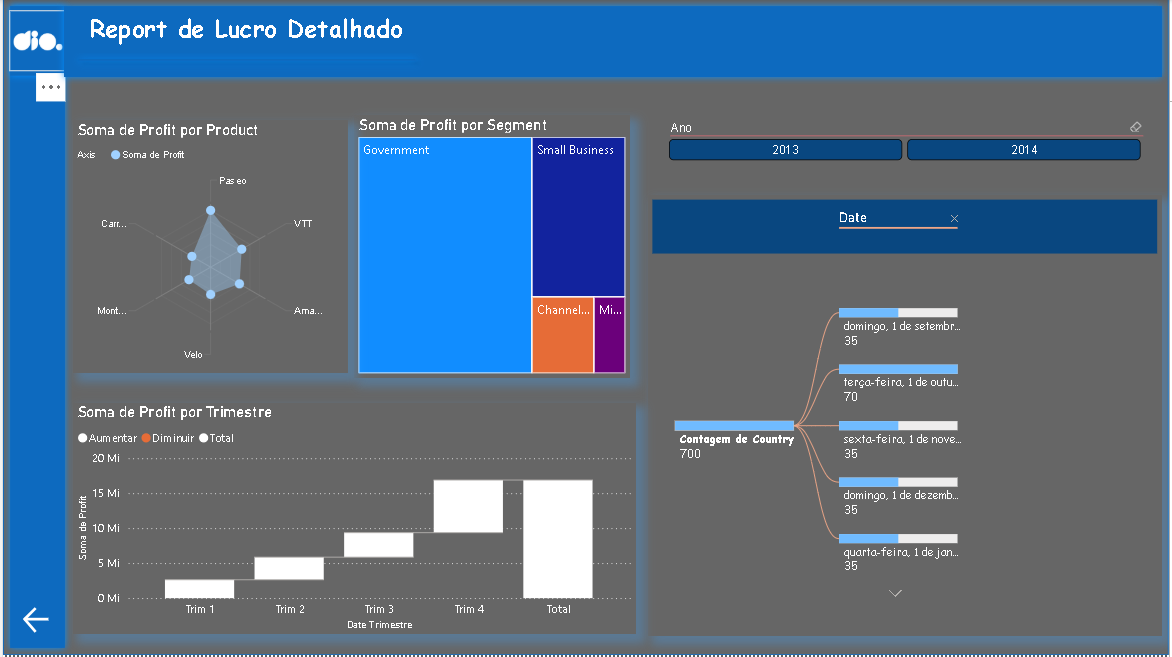

What the dashboard file says about the page in this screenshot:
{"tool":"powerbi","page":{"name":"Profit","canvas":[1280,720],"ordinal":1},"visuals":[{"type":"shape","box":[0,0,1279.7,720.1],"z":0},{"type":"shape","box":[0,0,75.8,720.1],"z":1000},{"type":"shape","box":[0,0,75.8,92],"z":2000},{"type":"image","title":"logo dio","box":[7.2,12.6,63.2,66.8],"z":3000},{"type":"shape","box":[59,0,1221.1,93.6],"z":4000},{"type":"actionButton","box":[18,662.4,39.7,37.9],"z":5000},{"type":"textbox","box":[90.8,8.9,411.1,51.6],"z":6000},{"type":"shape","box":[74.8,53.4,388,26.7],"z":7000},{"type":"decompositionTreeVisual","fields":{"ExplainBy":["financials.Date"],"Analyze":["CountNonNull(financials.Country)"]},"box":[708.4,215.4,564.2,484.1],"z":8000},{"type":"treemap","fields":{"Values":["Sum(financials.Profit)"],"Group":["financials.Segment"]},"box":[386.2,128.1,302.6,288.3],"z":9000},{"type":"waterfallChart","fields":{"Category":["financials.Date.Variation.Hierarquia de datas.Trimestre"],"Y":["Sum(financials.Profit)"]},"box":[76.5,443.2,617.6,254.5],"z":10000},{"type":"RadarChart1446119667547","fields":{"Y":["Sum(financials.Profit)"],"Category":["financials.Product"]},"box":[76.5,133.5,302.6,277.6],"z":11000},{"type":"ChicletSlicer1448559807354","fields":{"Category":["financials.Date.Variation.Hierarquia de datas.Ano"]},"box":[723.5,128.7,534.1,74],"z":12000}]}

Visuals, with their boxes in screenshot pixels (x1, y1, x2, y2), scaled from the page's 1280x720 canvas onto the 1172x657 screenshot:
shape: box(0, 0, 1171, 656)
shape: box(0, 0, 69, 656)
shape: box(0, 0, 69, 84)
"logo dio" image: box(7, 11, 64, 72)
shape: box(54, 0, 1171, 85)
actionButton: box(16, 604, 53, 639)
textbox: box(83, 8, 460, 55)
shape: box(68, 49, 424, 73)
decompositionTreeVisual - financials.Date x CountNonNull(financials.Country): box(649, 197, 1165, 638)
treemap - Sum(financials.Profit) x financials.Segment: box(354, 117, 631, 380)
waterfallChart - financials.Date.Variation.Hierarquia de datas.Trimestre x Sum(financials.Profit): box(70, 404, 636, 637)
RadarChart1446119667547 - Sum(financials.Profit) x financials.Product: box(70, 122, 347, 375)
ChicletSlicer1448559807354 - financials.Date.Variation.Hierarquia de datas.Ano: box(662, 117, 1151, 185)
